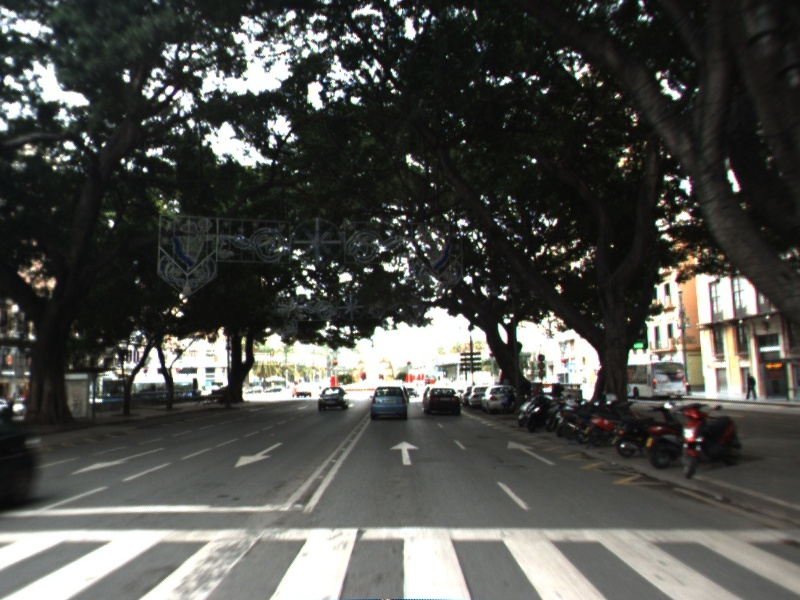STRAIGHT: (505, 439, 558, 467), (388, 439, 422, 467)
